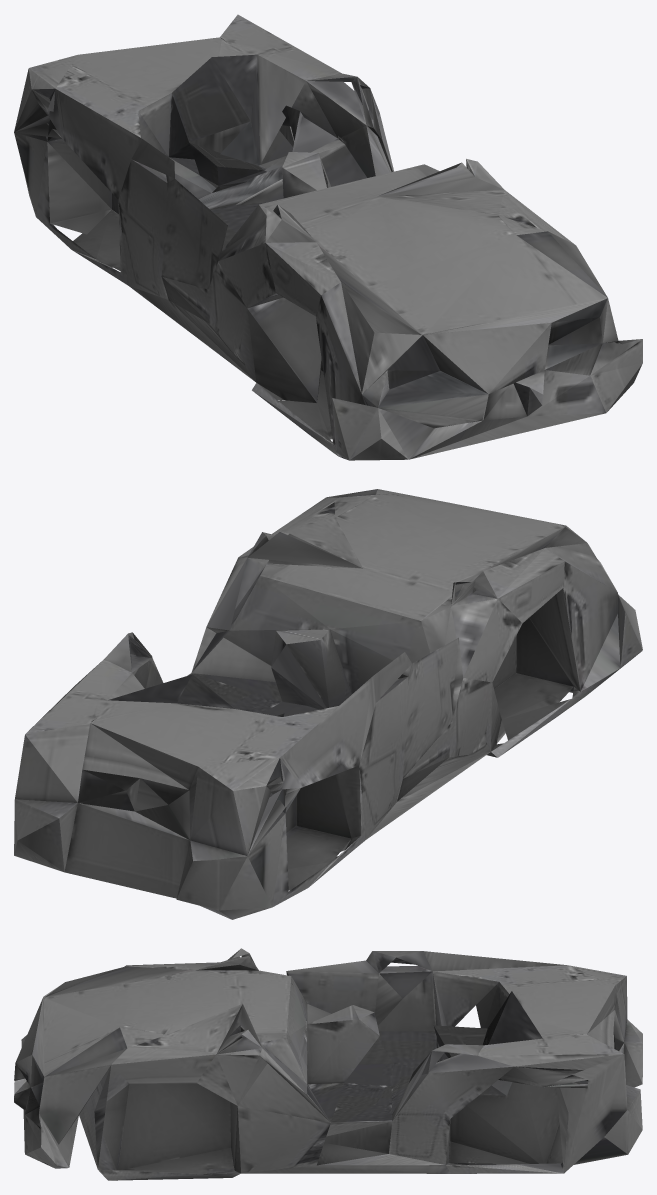
Rendered from shared_flight_deck_ordnance_tractor_lod2.glb.
3 renders of one model, top to bottom at view 1: azimuth 30°, elevation 25°; view 2: azimuth 150°, elevation 25°; view 3: azimuth 270°, elevation 25°, orthographic. The views are drawn at different scales.
Parts seen in each view (by area): view 1: mesh_node; view 2: mesh_node; view 3: mesh_node.
Part boxes in pixels (bbox=[...]): mesh_node: bbox=[14, 14, 642, 460]; mesh_node: bbox=[14, 489, 642, 919]; mesh_node: bbox=[14, 948, 642, 1180].
Bounding box in the file's own units: 1.72 × 1 × 3.96.
1 material, 1 textured.
